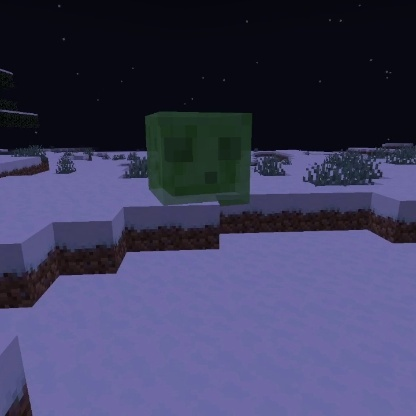slime: (141, 107, 254, 209)
